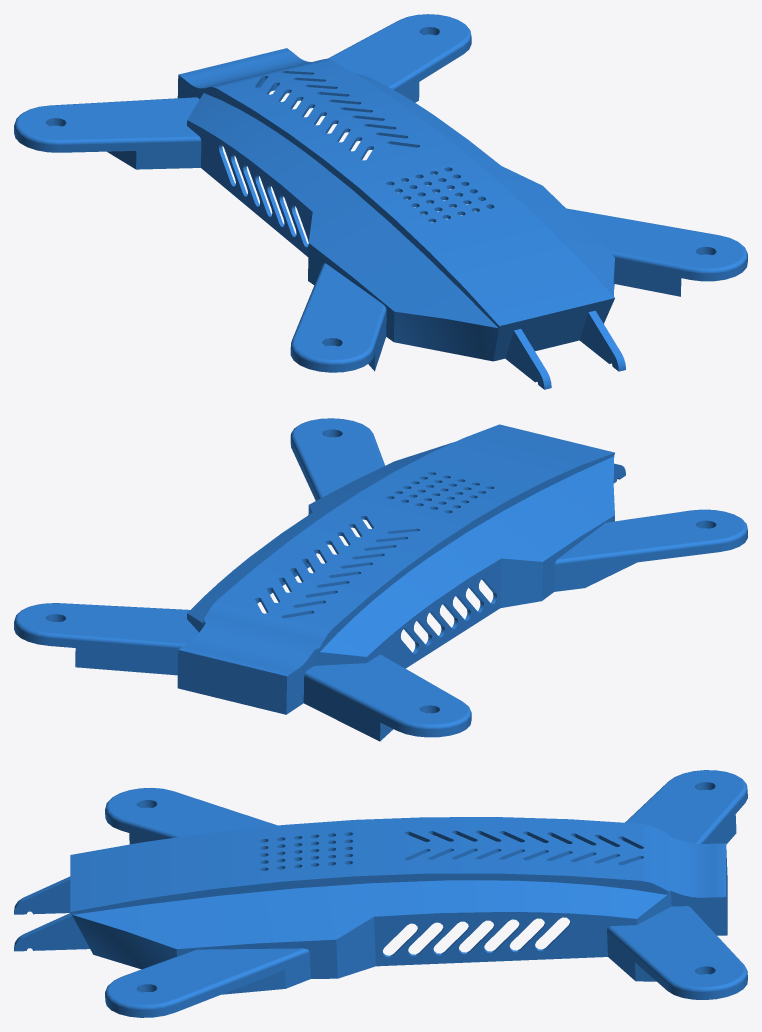
The model's file is Main_Frame.glb.
3 views of the same model, one above another, from view 1: azimuth 30°, elevation 25°; view 2: azimuth 150°, elevation 25°; view 3: azimuth 270°, elevation 25° (orthographic).
Visible parts, largest first — view 1: Solid1.005; view 2: Solid1.005; view 3: Solid1.005.
Boxes of the visible parts, x1,y1,x2,y2 form: Solid1.005: (14, 14, 747, 389); Solid1.005: (14, 418, 747, 741); Solid1.005: (14, 770, 747, 1017).
Bounding box in the file's own units: 0.123 × 0.0225 × 0.1734.
